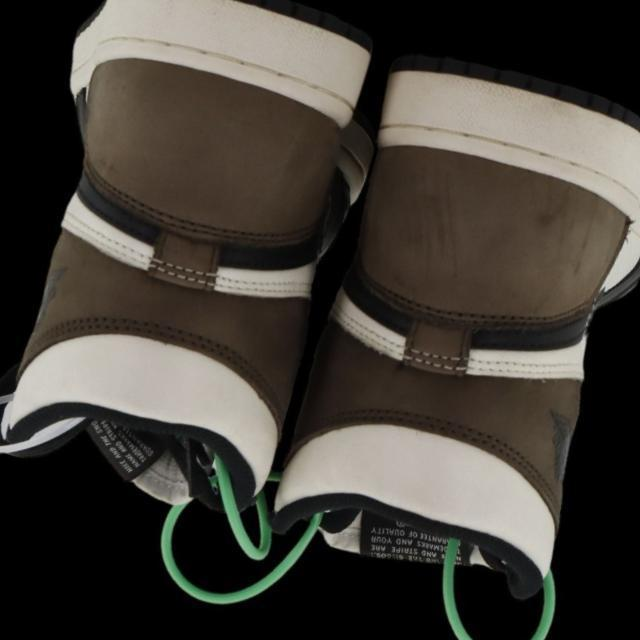nike original jordan 1: (258, 35, 640, 613), (0, 0, 402, 542)
